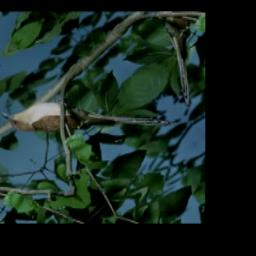Cuckoo: (0, 41, 175, 196)
